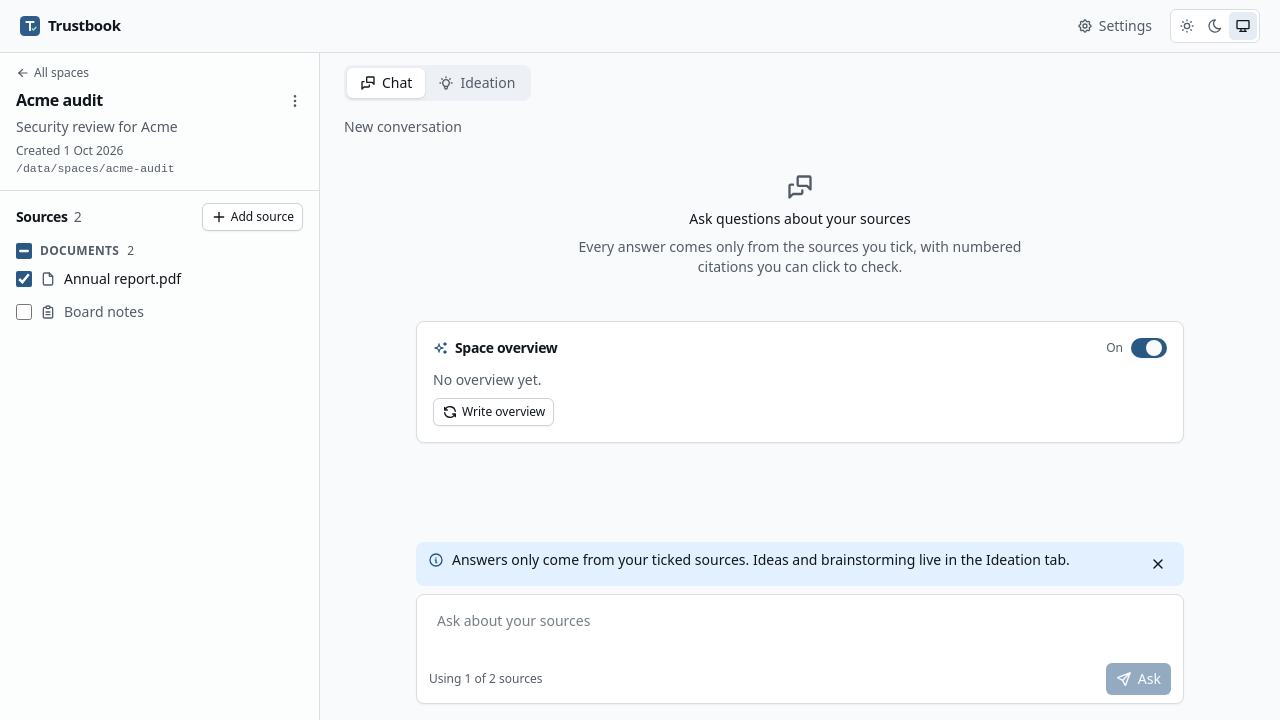
it: chat › shows a calm refusal card with a suggestion and a Refused badge
Type "What does the office lease cost?" into the text box named "Question" at (800, 631), box [425,603,1175,659]
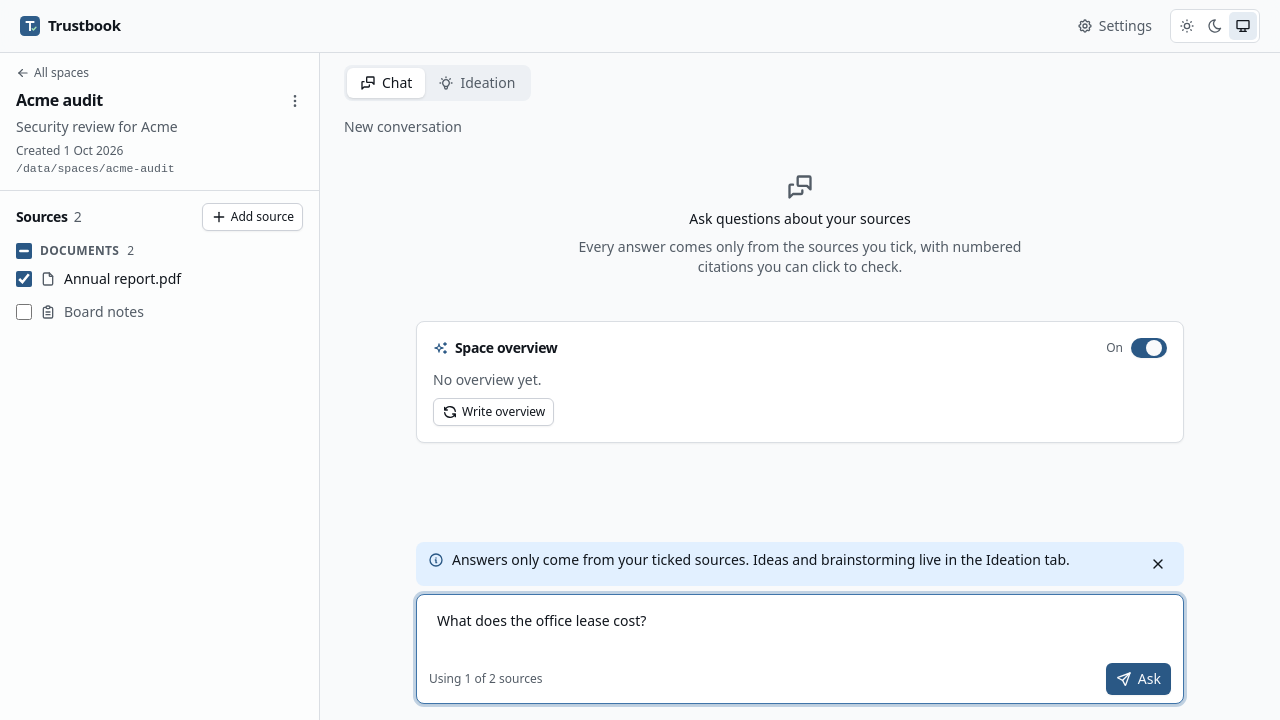
Click the button "Ask" at (1138, 679), box [1106,663,1171,695]
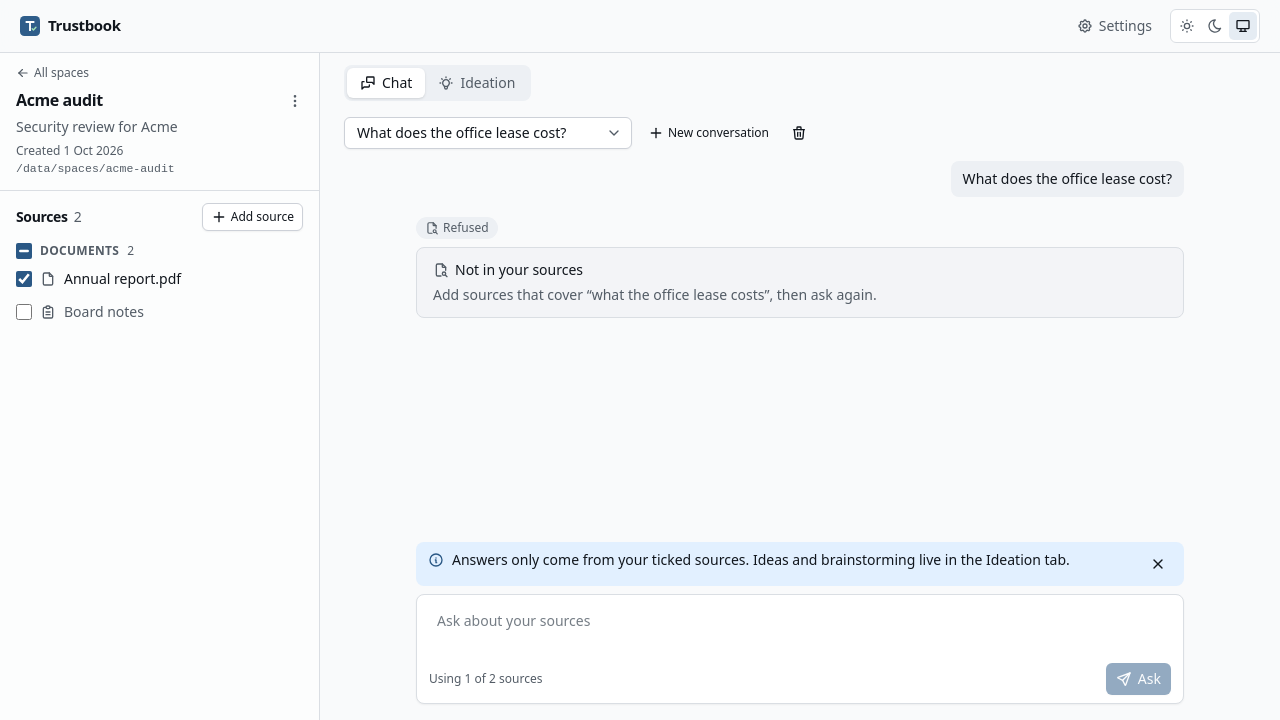
Now the text "Not in your sources" is shown once, box [433,260,583,279]
Now the element with test id "refusal-title" reads "Not in your sources", box [455,260,583,279]
Now the text with test id "refusal-suggestion" reads "Add sources that cover “what the office lease costs”, then ask again.", box [433,285,877,304]
